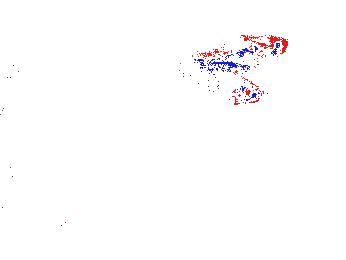glassfish: (174, 65, 268, 106)
red belly glassfish: (188, 36, 287, 71)
